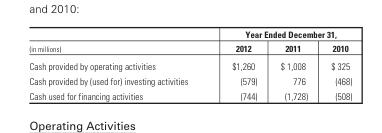table: (28, 28, 351, 101)
table column: (28, 28, 209, 101), (209, 28, 268, 101), (268, 28, 318, 101), (318, 28, 351, 101)
table column header: (28, 28, 351, 56)
table row: (28, 56, 351, 73), (28, 41, 351, 56), (28, 73, 351, 88), (28, 28, 351, 41), (28, 88, 351, 101)
table spanning cell: (28, 28, 209, 56), (209, 28, 351, 41)
